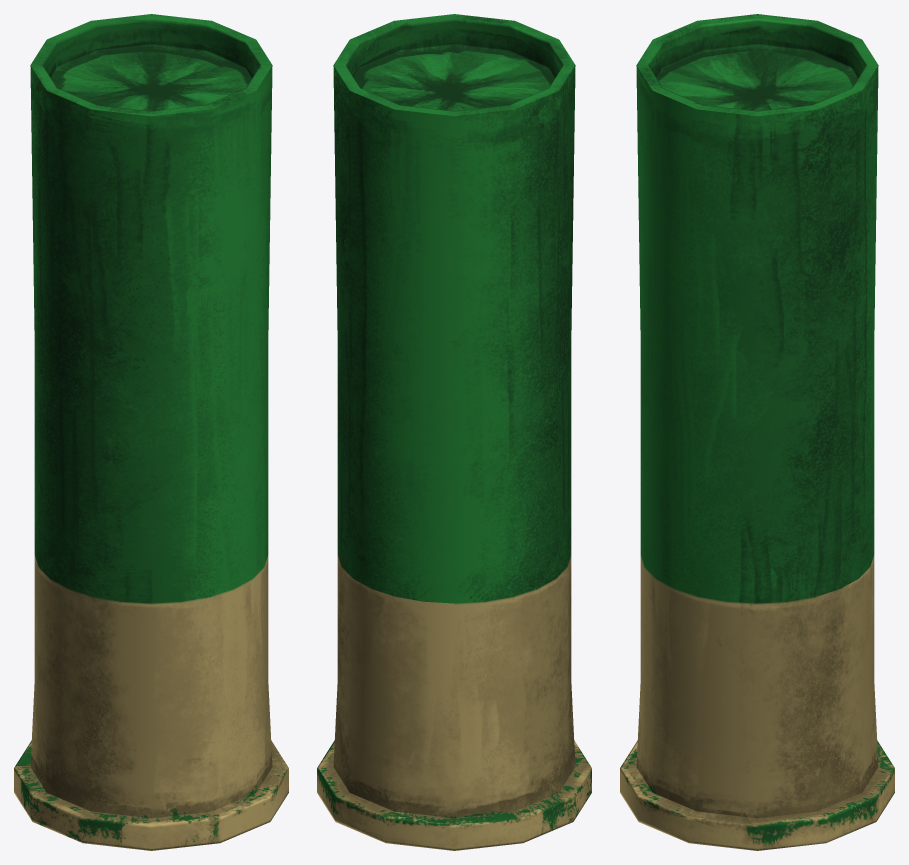
The model's file is ShotgunBirdshotShell.fbx.
3 views of the same model, side by side, from view 1: azimuth 30°, elevation 25°; view 2: azimuth 150°, elevation 25°; view 3: azimuth 270°, elevation 25° (orthographic).
Parts seen in each view (by area): view 1: ShotgunBirdshotShell; view 2: ShotgunBirdshotShell; view 3: ShotgunBirdshotShell.
Part boxes in pixels (left/top/right/bottom): ShotgunBirdshotShell: left=14, top=14, right=288, bottom=850; ShotgunBirdshotShell: left=317, top=14, right=591, bottom=850; ShotgunBirdshotShell: left=620, top=14, right=894, bottom=850.
Size of the model in its own units: 4.36 by 12.76 by 4.36.
Materials: 1 (1 with a texture image).
